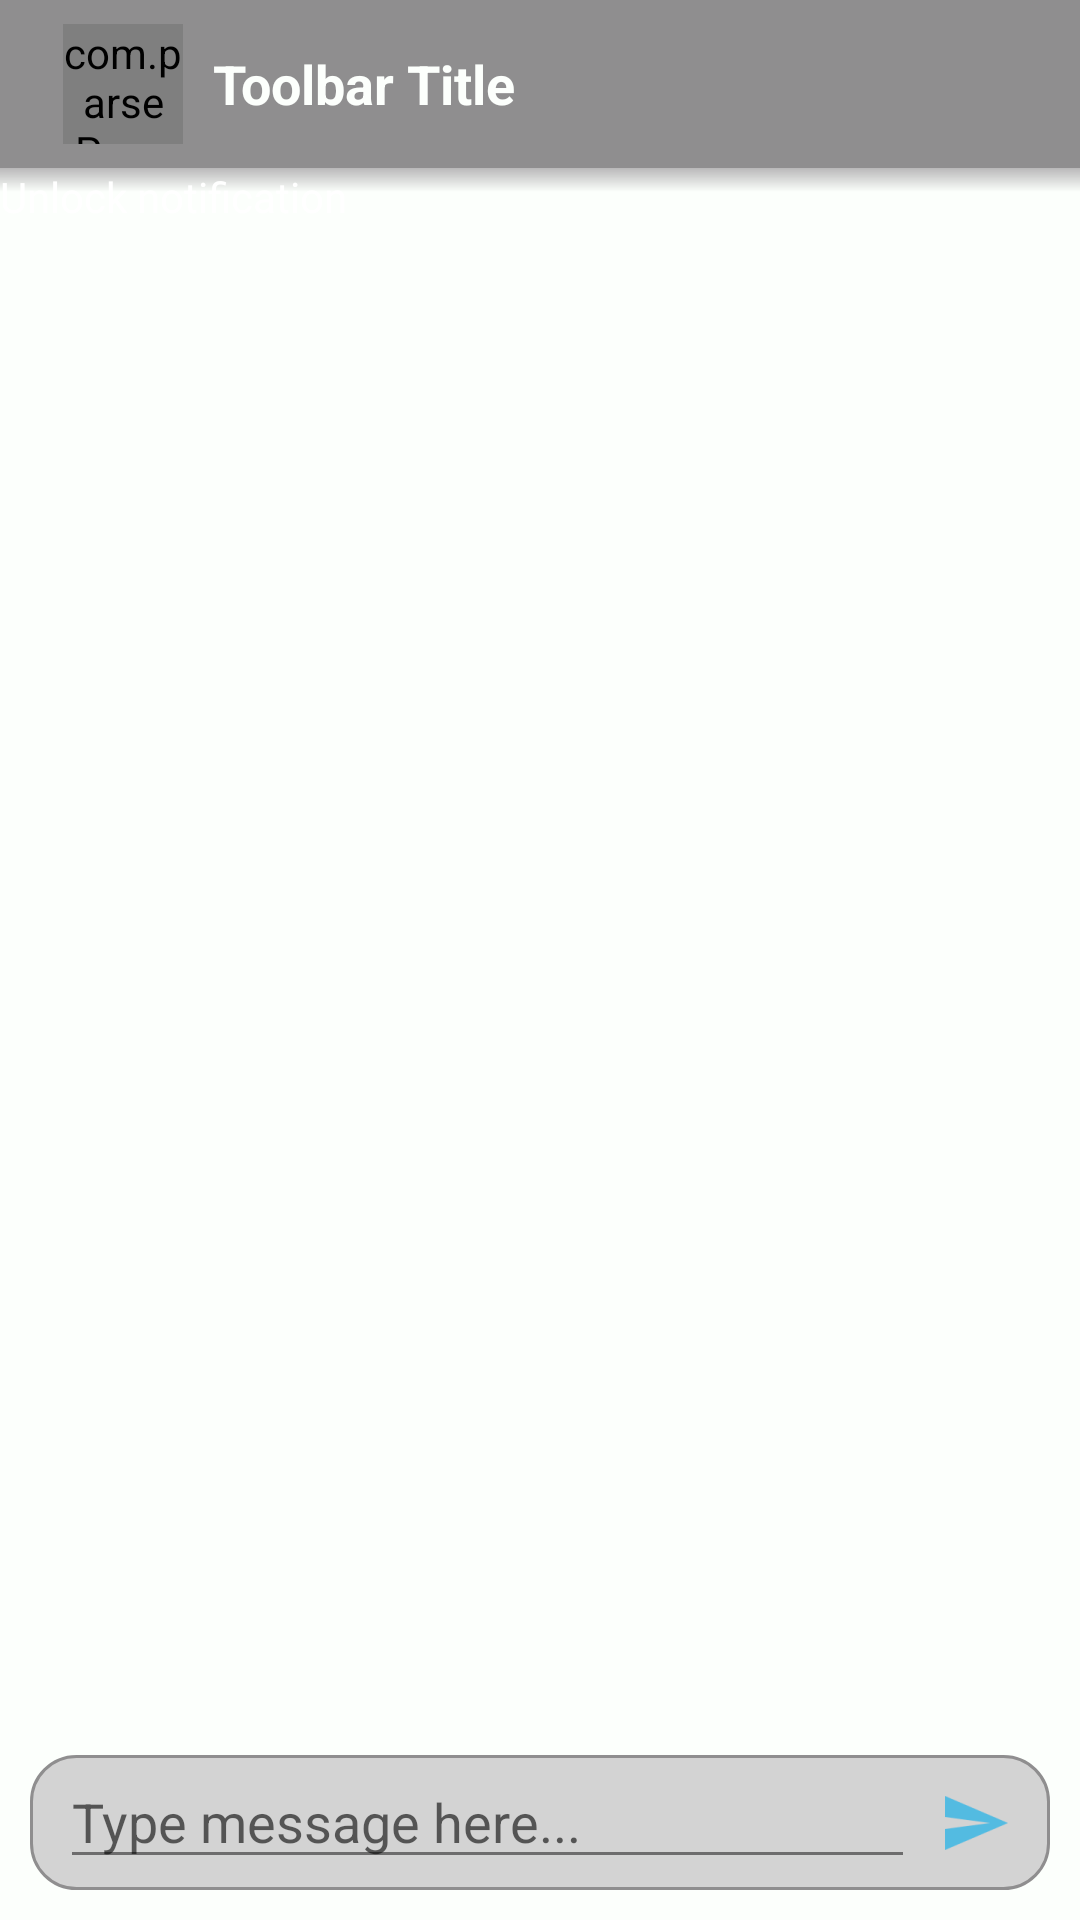

Icons on this 1080*1920 Android screen, each with the point to tap as (x,y):
send: (975,1822)
